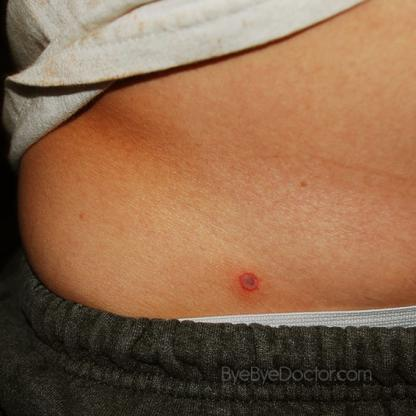Tick: (234, 265, 267, 297)
